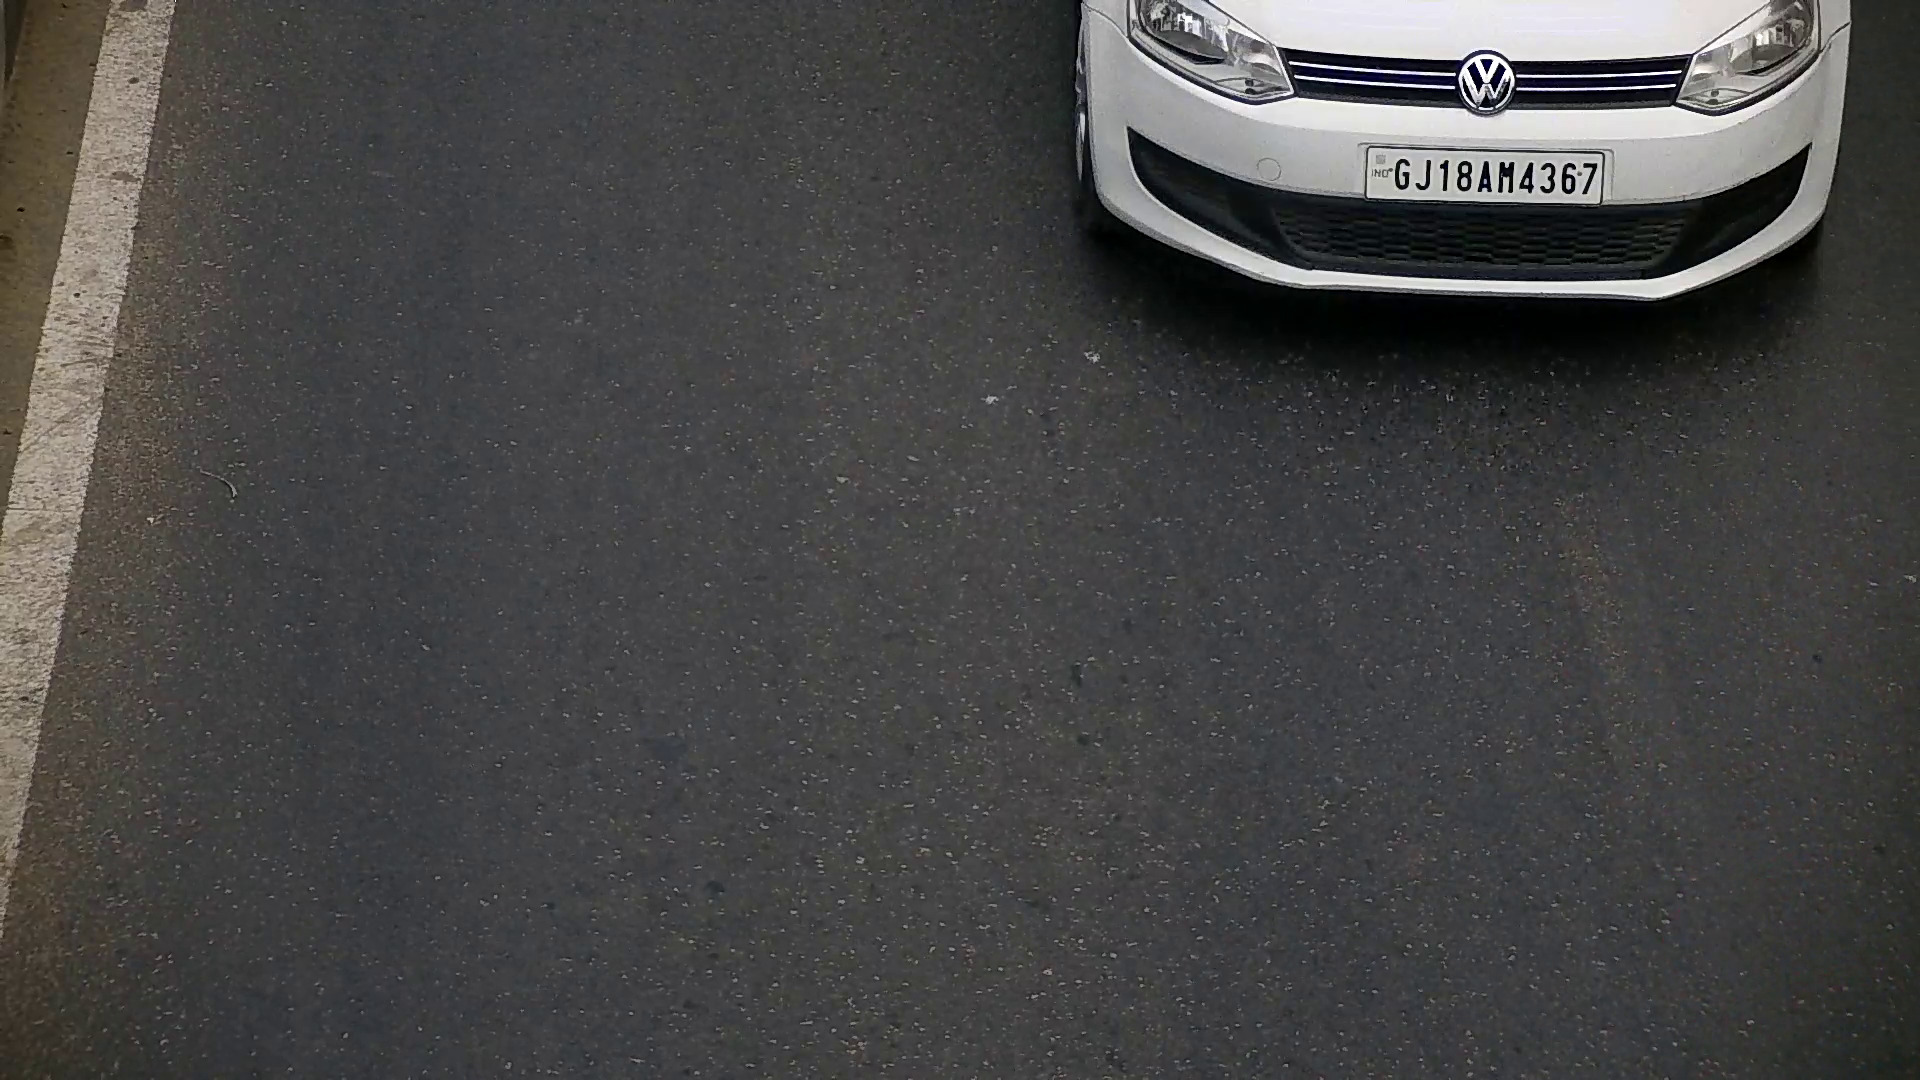numberplate: (1362, 142, 1608, 213)
